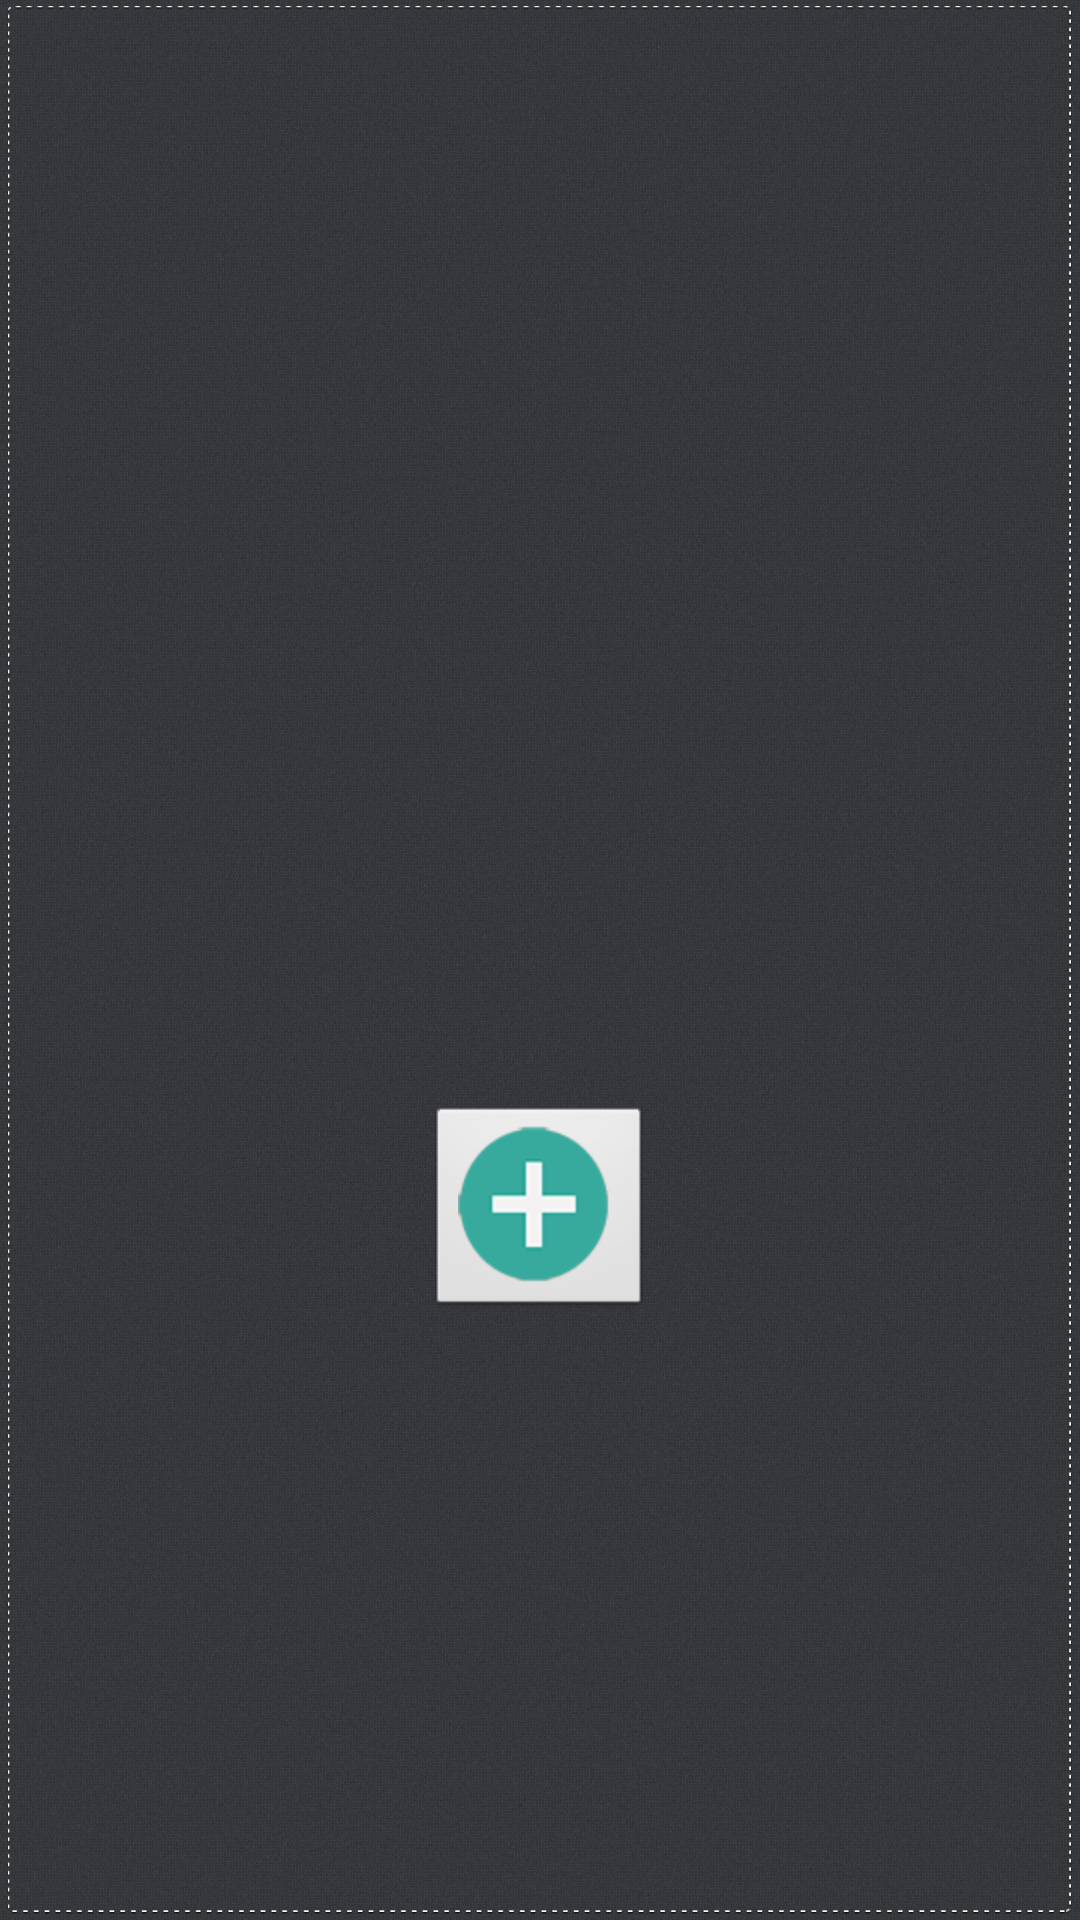

Icon click points for this 1080 × 1920 phone screenshot, format (x=x, y=y):
choosepic: (x=538, y=1205)
